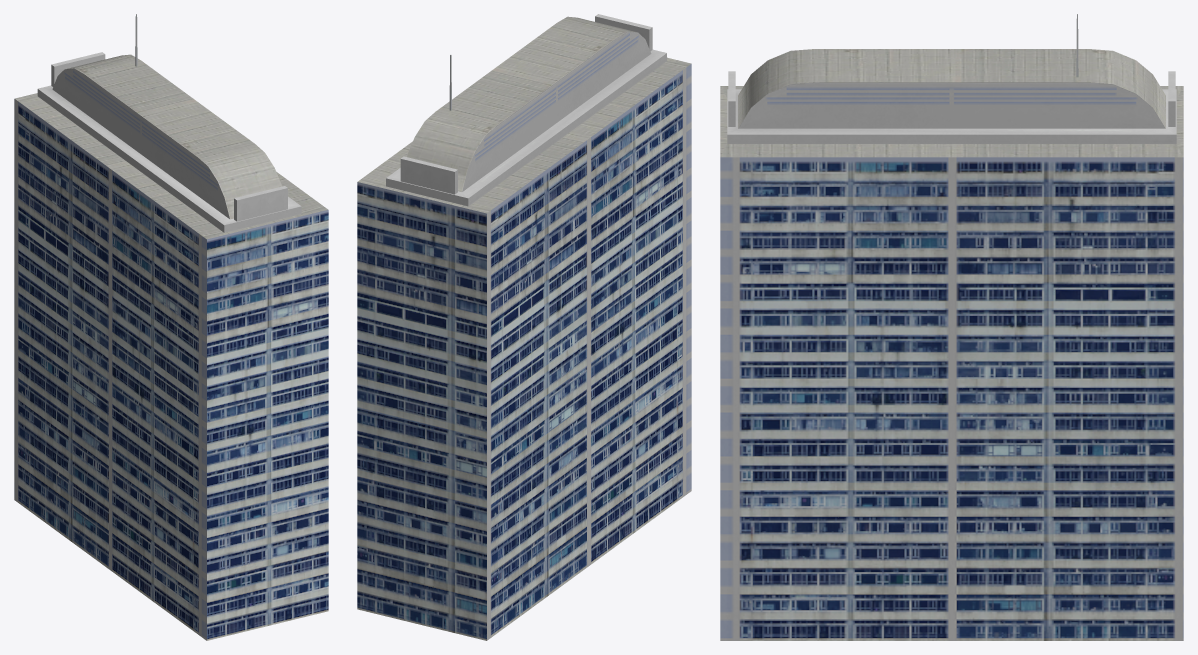
Rendered from MB_Skyscraper_06.fbx.
3 renders of one model, left to right at view 1: azimuth 30°, elevation 25°; view 2: azimuth 150°, elevation 25°; view 3: azimuth 270°, elevation 25°, orthographic. The views are drawn at different scales.
Visible parts, largest first — view 1: MB_Skyscraper_06; view 2: MB_Skyscraper_06; view 3: MB_Skyscraper_06.
Boxes of the visible parts, x1=… form: MB_Skyscraper_06: x1=14, y1=14, x2=328, y2=640; MB_Skyscraper_06: x1=357, y1=14, x2=691, y2=640; MB_Skyscraper_06: x1=720, y1=14, x2=1183, y2=640.
Bounding box in the file's own units: 776 × 3042 × 2125.
